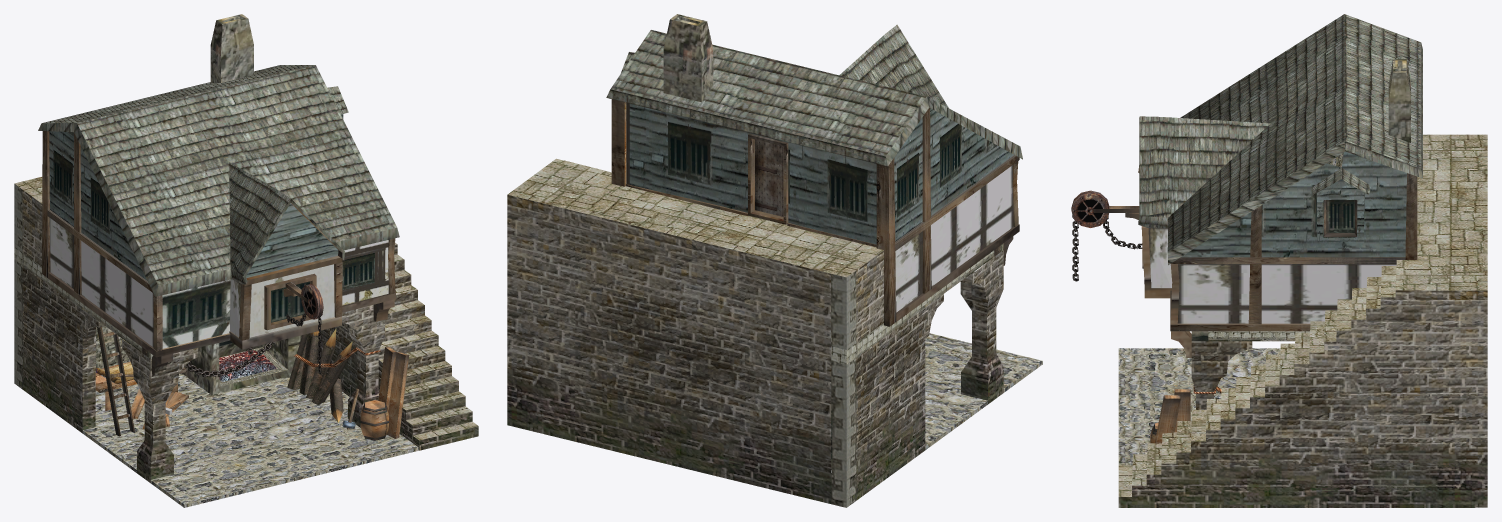
The model's file is building_engineers_guild.glb.
3 views of the same model, side by side, from view 1: azimuth 30°, elevation 25°; view 2: azimuth 150°, elevation 25°; view 3: azimuth 270°, elevation 25° (orthographic). The views are drawn at different scales.
Visible parts, largest first — view 1: building_engineers_guild; view 2: building_engineers_guild; view 3: building_engineers_guild.
Boxes of the visible parts, <box> form: building_engineers_guild: <box>14,14,478,507</box>; building_engineers_guild: <box>507,14,1042,507</box>; building_engineers_guild: <box>1071,14,1487,507</box>.
Size of the model in its own units: 10.46 by 11.7 by 11.57.
21 materials, 20 textured.
